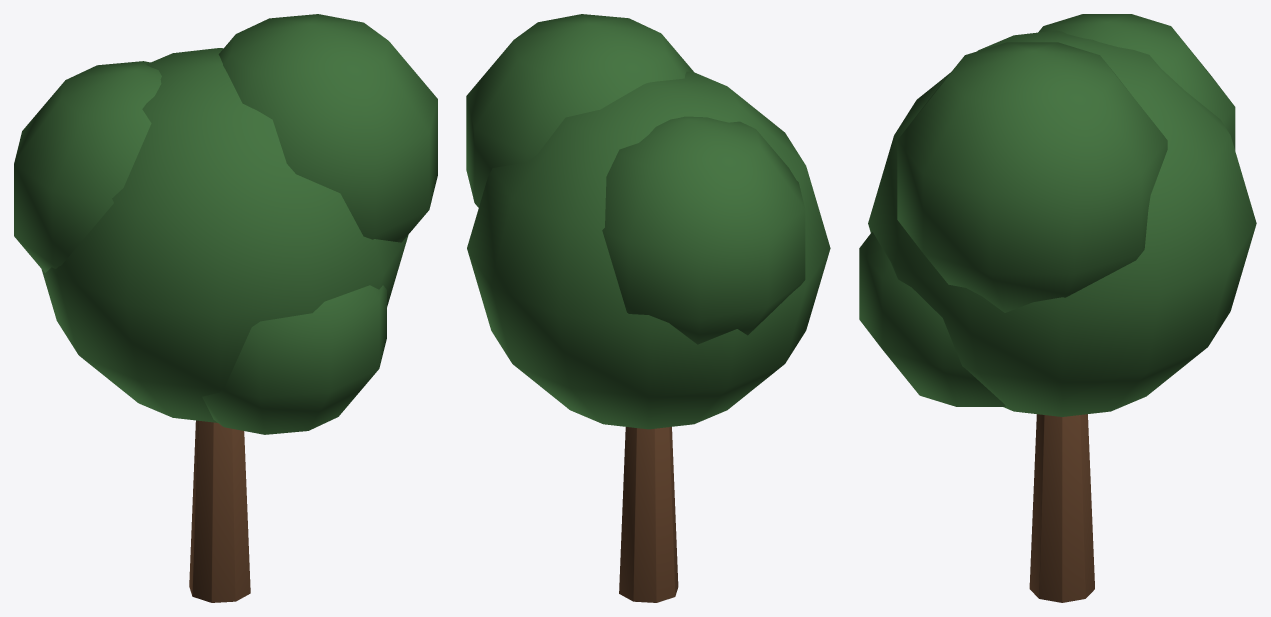
File: tree.glb
3 renders of one model, left to right at view 1: azimuth 30°, elevation 25°; view 2: azimuth 150°, elevation 25°; view 3: azimuth 270°, elevation 25°, orthographic. The views are drawn at different scales.
Visible parts, largest first — view 1: Sphere, Sphere.001, Sphere.002, Sphere.003, Cone; view 2: Sphere, Sphere.002, Sphere.001, Cone; view 3: Sphere.001, Sphere, Cone, Sphere.003, Sphere.002.
Part boxes in pixels (bbox=[...]): Sphere: bbox=[41, 48, 408, 422]; Sphere.001: bbox=[218, 14, 437, 242]; Sphere.002: bbox=[14, 61, 161, 272]; Sphere.003: bbox=[202, 285, 386, 434]; Cone: bbox=[189, 420, 250, 602]; Sphere: bbox=[467, 71, 830, 429]; Sphere.002: bbox=[602, 116, 805, 344]; Sphere.001: bbox=[466, 14, 693, 207]; Cone: bbox=[619, 427, 678, 602]; Sphere.001: bbox=[897, 42, 1167, 312]; Sphere: bbox=[868, 30, 1256, 416]; Cone: bbox=[1029, 414, 1094, 602]; Sphere.003: bbox=[859, 232, 1005, 406]; Sphere.002: bbox=[1038, 14, 1235, 150].
Bounding box in the file's own units: 2.77 × 4.25 × 2.66.
